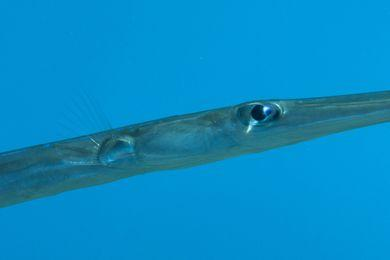Fistularia commersonii: (0, 87, 389, 210)
